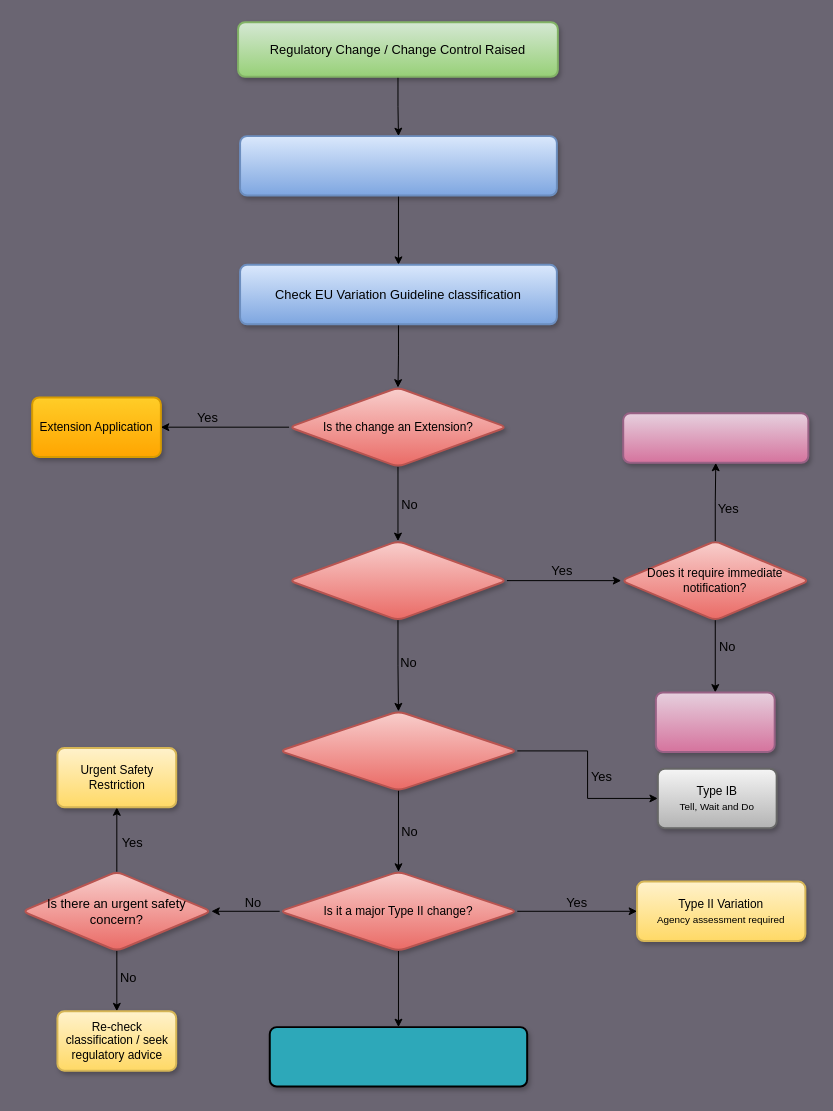
This 833x1111 diagram has some shape labels left out. Here are the shapes that lost their labels. From the top down, the centre of each, then its label:
At [399,167]: "Identify affected MA terms / dossier section".
At [716,439]: "Type IAIN Notify immediately, then do".
At [398,582]: "Is it a minor Type IA change?".
At [715,723]: "Type IA Annual Update".
At [399,752]: "Is it a Type IB change?".
At [399,1058]: "Variation Type Confirmed: Proceed to Chart 2: Submission Strategy & lifecycle".
